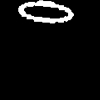chain: (19, 0, 73, 22)
